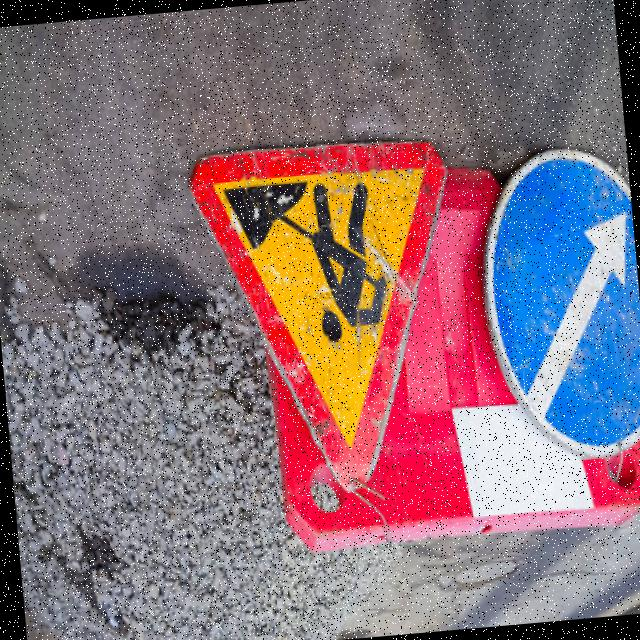road_work: (182, 126, 479, 500)
